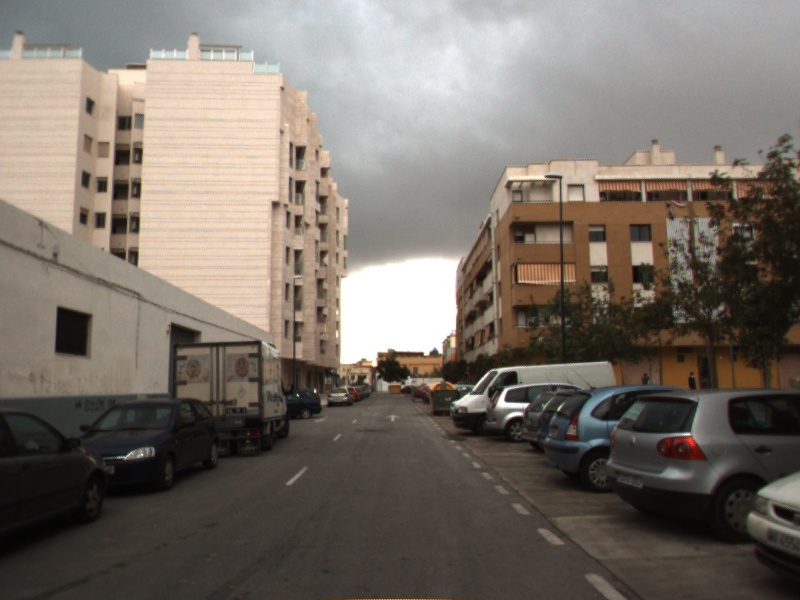STRAIGHT: (383, 412, 403, 424)
